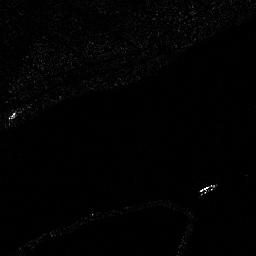ship: (198, 184, 218, 197)
